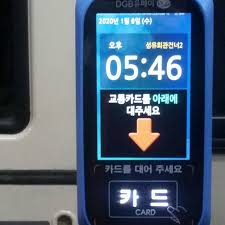terminal: (70, 1, 217, 225)
